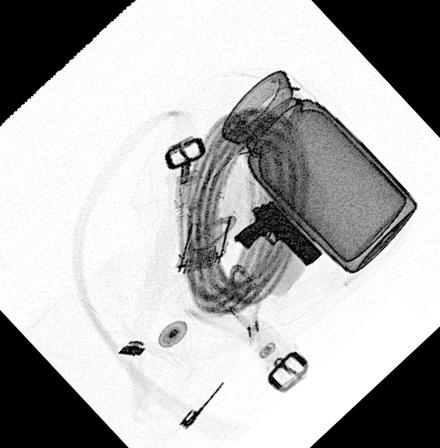Gun: (232, 200, 321, 266)
